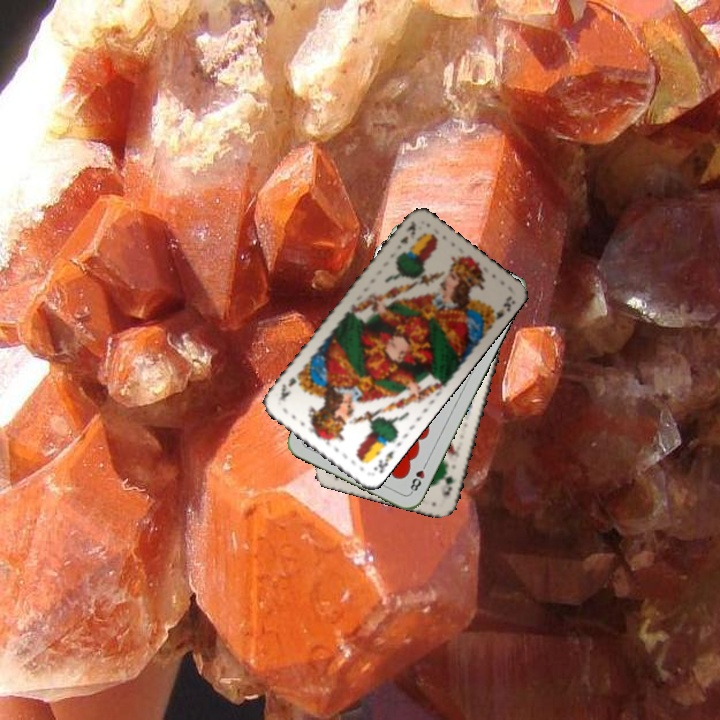EK: (393, 217, 418, 252), (369, 446, 397, 475)
GK: (438, 463, 456, 499)
H8: (406, 458, 430, 496)
